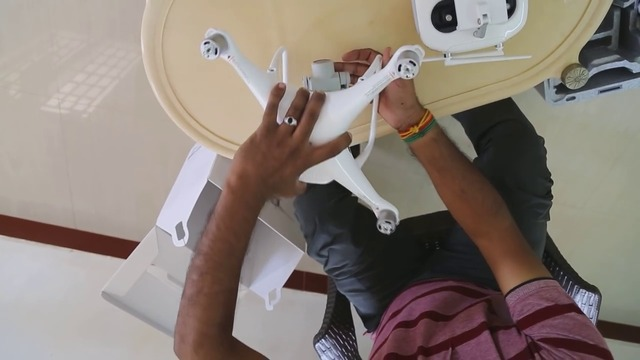drone: (198, 27, 426, 235)
